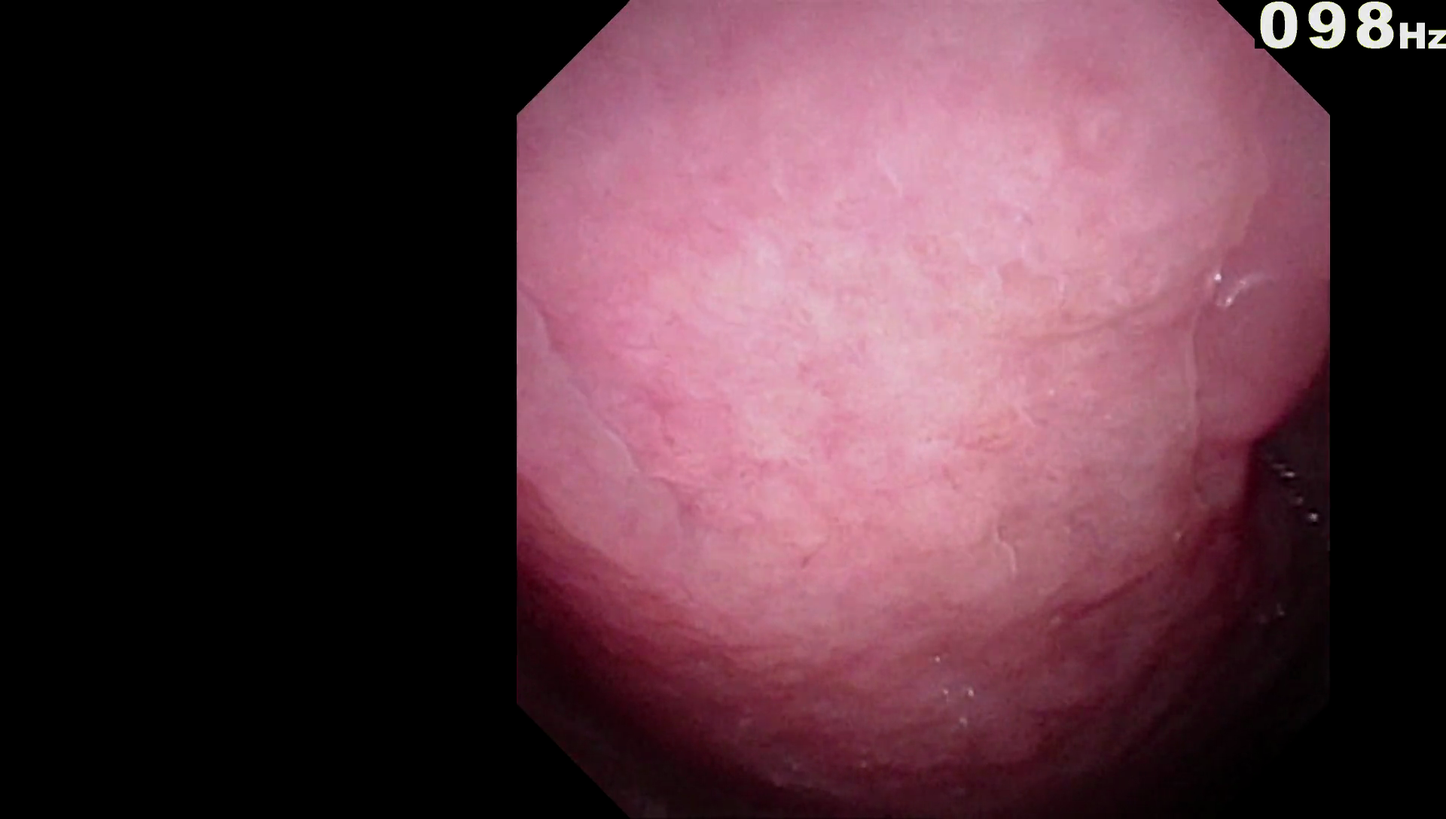close_wall: (579, 59, 1180, 720)
next: (1063, 590, 1293, 790), (533, 638, 778, 781), (1190, 352, 1312, 596)
